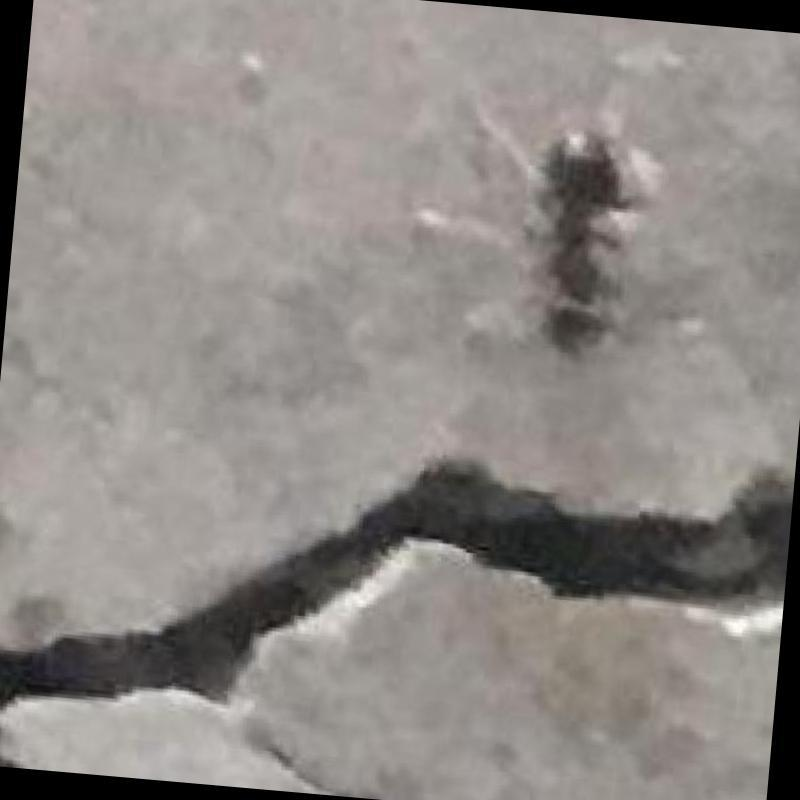crack: (0, 462, 792, 707)
